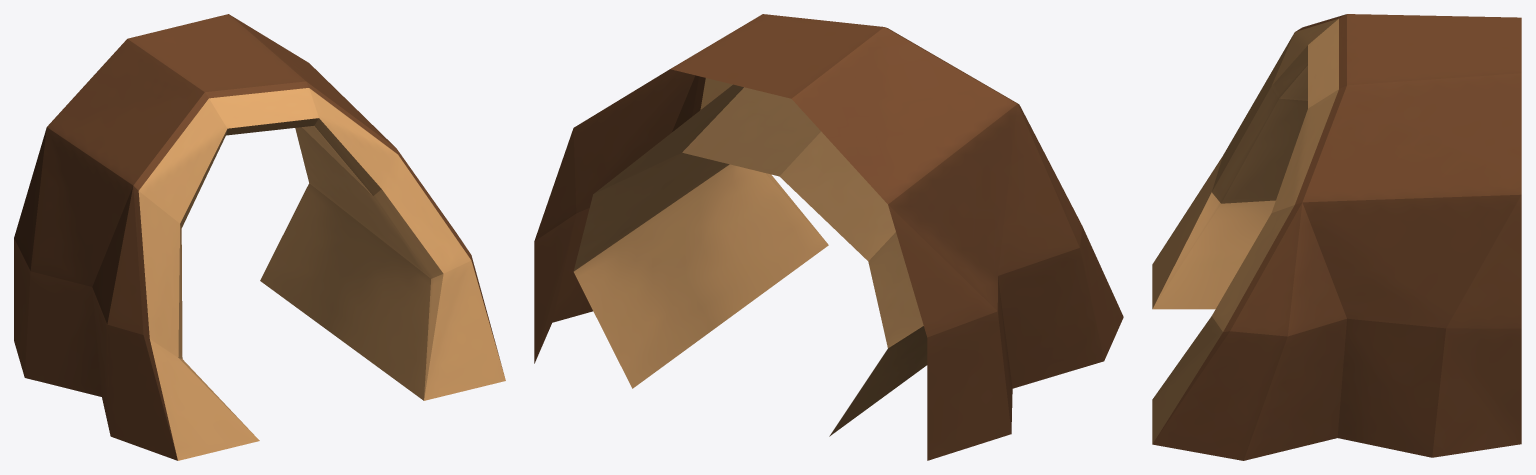
The model's file is Tronc_Perce_EntreeA.FBX.
The picture shows the model from 3 angles, left to right: view 1: azimuth 30°, elevation 25°; view 2: azimuth 150°, elevation 25°; view 3: azimuth 270°, elevation 25°; orthographic projection. The views are drawn at different scales.
Parts seen in each view (by area): view 1: TroncPerce_EntreeA; view 2: TroncPerce_EntreeA; view 3: TroncPerce_EntreeA.
Boxes of the visible parts, x1,y1,x2,y2 form: TroncPerce_EntreeA: (14,14,505,460); TroncPerce_EntreeA: (534,14,1123,460); TroncPerce_EntreeA: (1152,14,1521,460).
Bounding box in the file's own units: 2.36 × 1.62 × 1.73.
